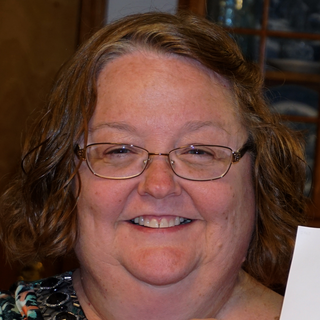eye: (164, 134, 227, 172), (93, 138, 142, 167)
